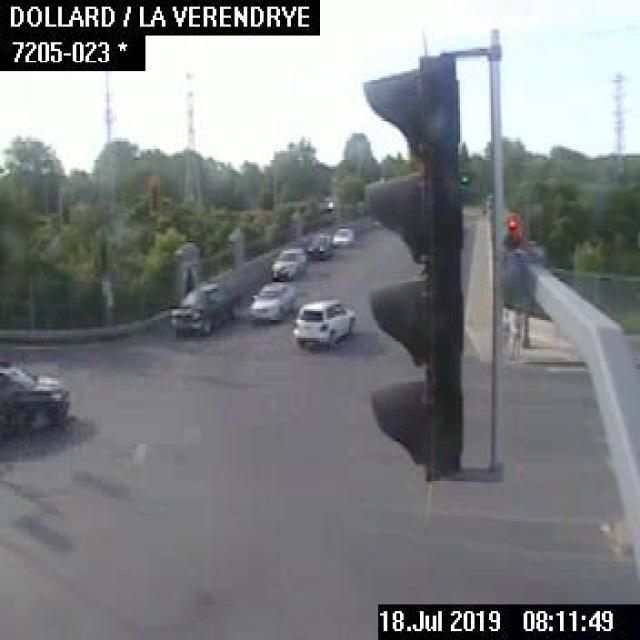pedestrian: (497, 302, 521, 361)
vehicle: (0, 362, 67, 435), (167, 282, 231, 334), (294, 300, 356, 344), (248, 279, 298, 323), (268, 244, 306, 279), (306, 231, 330, 261), (330, 223, 355, 249)
